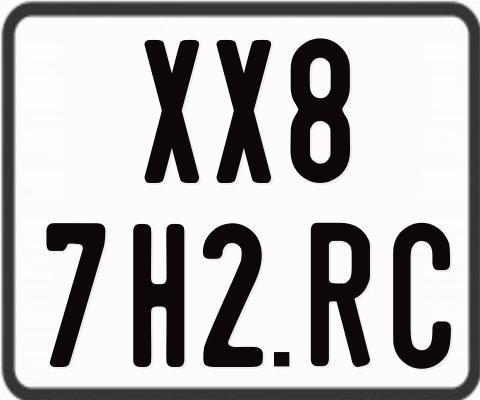2: (200, 222, 266, 369)
7: (46, 221, 111, 367)
8: (287, 36, 347, 184)
C: (392, 222, 454, 374)
H: (131, 221, 184, 369)
R: (308, 221, 367, 371)
X: (145, 38, 200, 185), (215, 40, 270, 186)
